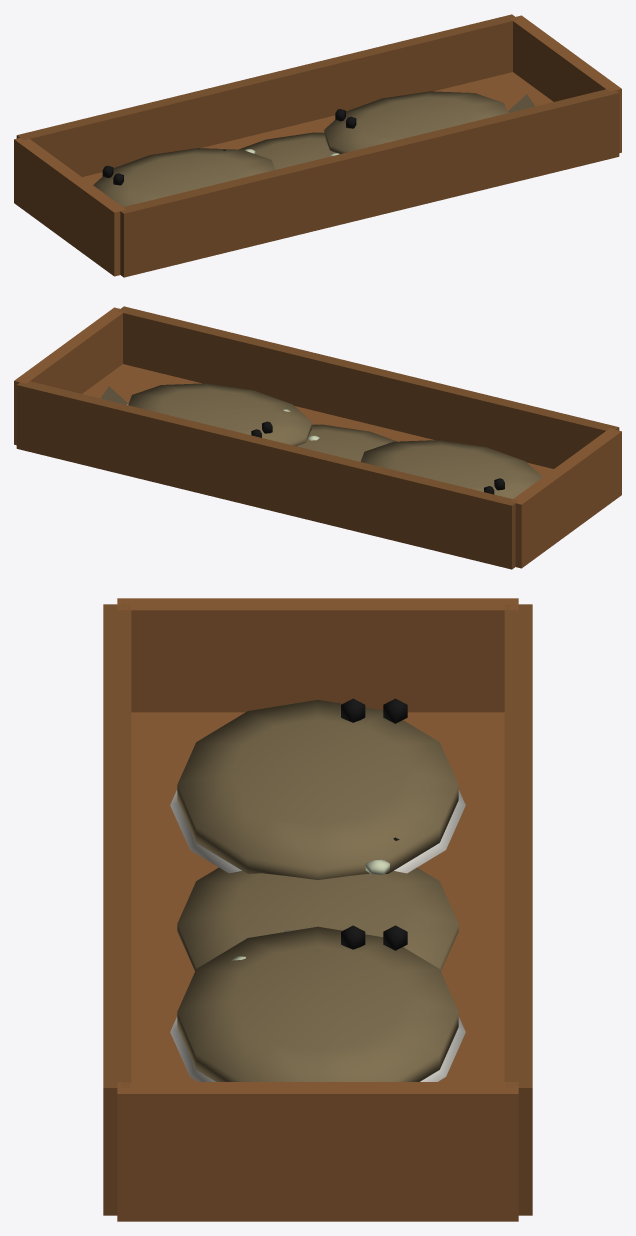
File: Fish_Flounder.fbx
3 views of the same model, one above another, from view 1: azimuth 30°, elevation 25°; view 2: azimuth 150°, elevation 25°; view 3: azimuth 270°, elevation 25° (orthographic). The views are drawn at different scales.
Parts seen in each view (by area): view 1: Fish_Flounder__Stack, Fish_Flounder; view 2: Fish_Flounder__Stack, Fish_Flounder; view 3: Fish_Flounder__Stack, Fish_Flounder.
Part boxes in pixels (x1,y1,x2,y2): Fish_Flounder__Stack: [14, 14, 621, 277]; Fish_Flounder: [223, 132, 335, 169]; Fish_Flounder__Stack: [14, 306, 621, 569]; Fish_Flounder: [297, 424, 396, 461]; Fish_Flounder__Stack: [103, 598, 532, 1221]; Fish_Flounder: [177, 837, 458, 970].
Size of the model in its own units: 0.333 by 0.04 by 0.122.
